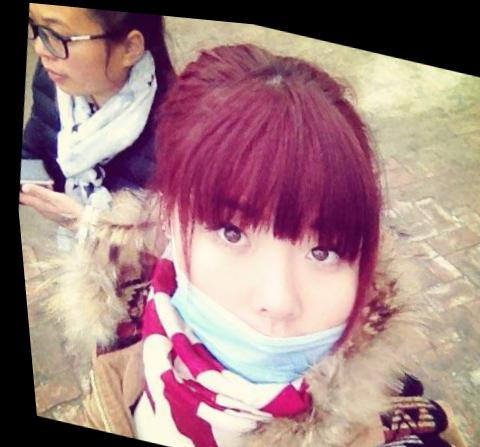NONE: (18, 2, 113, 104)
WRONG: (149, 169, 374, 396)
